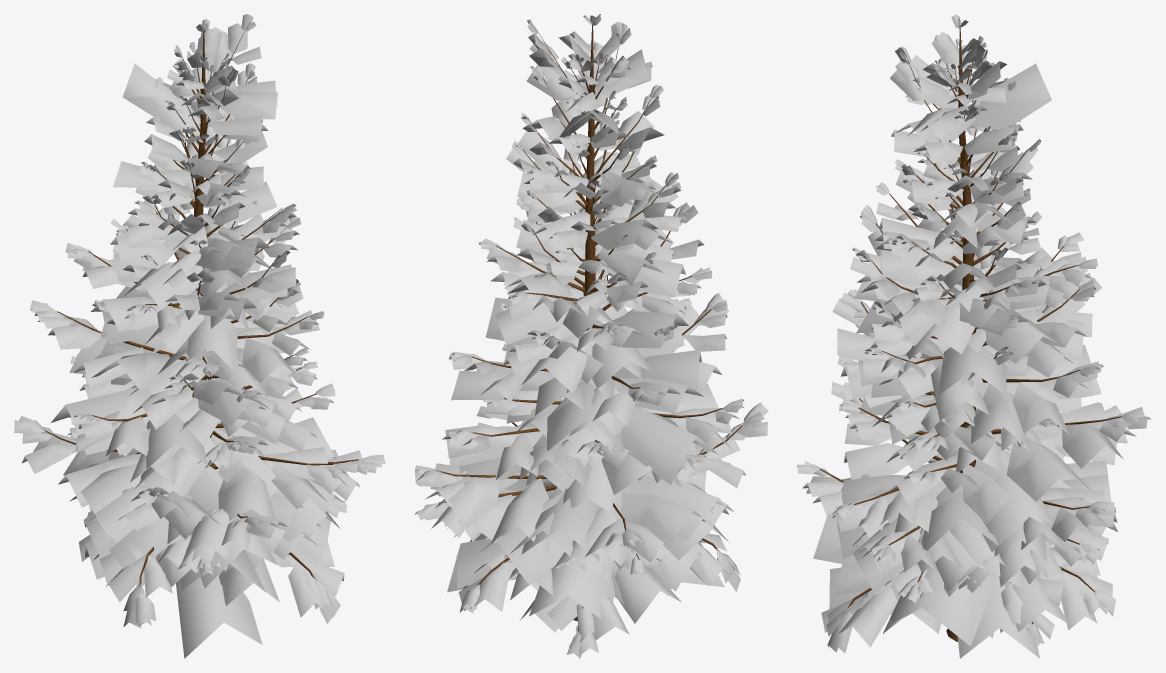
The model's file is conifer-stumped.fbx.
3 renders of one model, left to right at view 1: azimuth 30°, elevation 25°; view 2: azimuth 150°, elevation 25°; view 3: azimuth 270°, elevation 25°, orthographic. The views are drawn at different scales.
Parts seen in each view (by area): view 1: MainTrunk; view 2: MainTrunk; view 3: MainTrunk.
Part boxes in pixels (x1,y1,x2,y2): MainTrunk: (14, 14, 385, 658); MainTrunk: (414, 14, 768, 658); MainTrunk: (797, 14, 1151, 658).
Size of the model in its own units: 1099 by 2184 by 1138.
